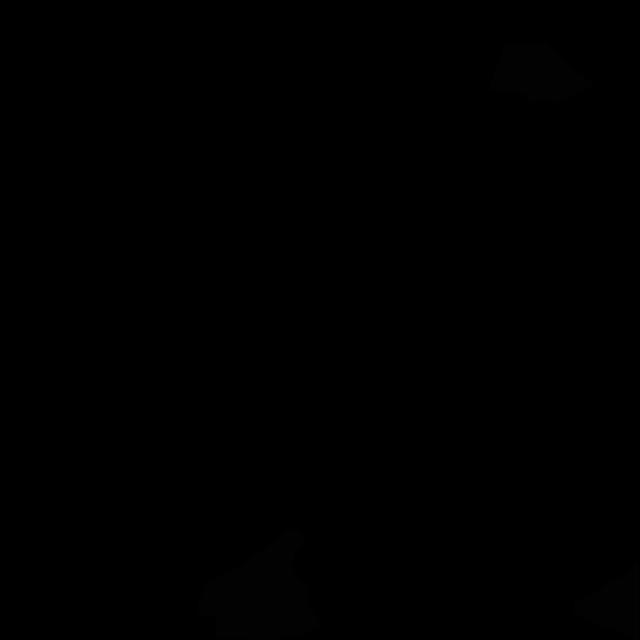cardboard: (197, 528, 323, 640), (489, 43, 594, 104), (572, 557, 639, 640)
